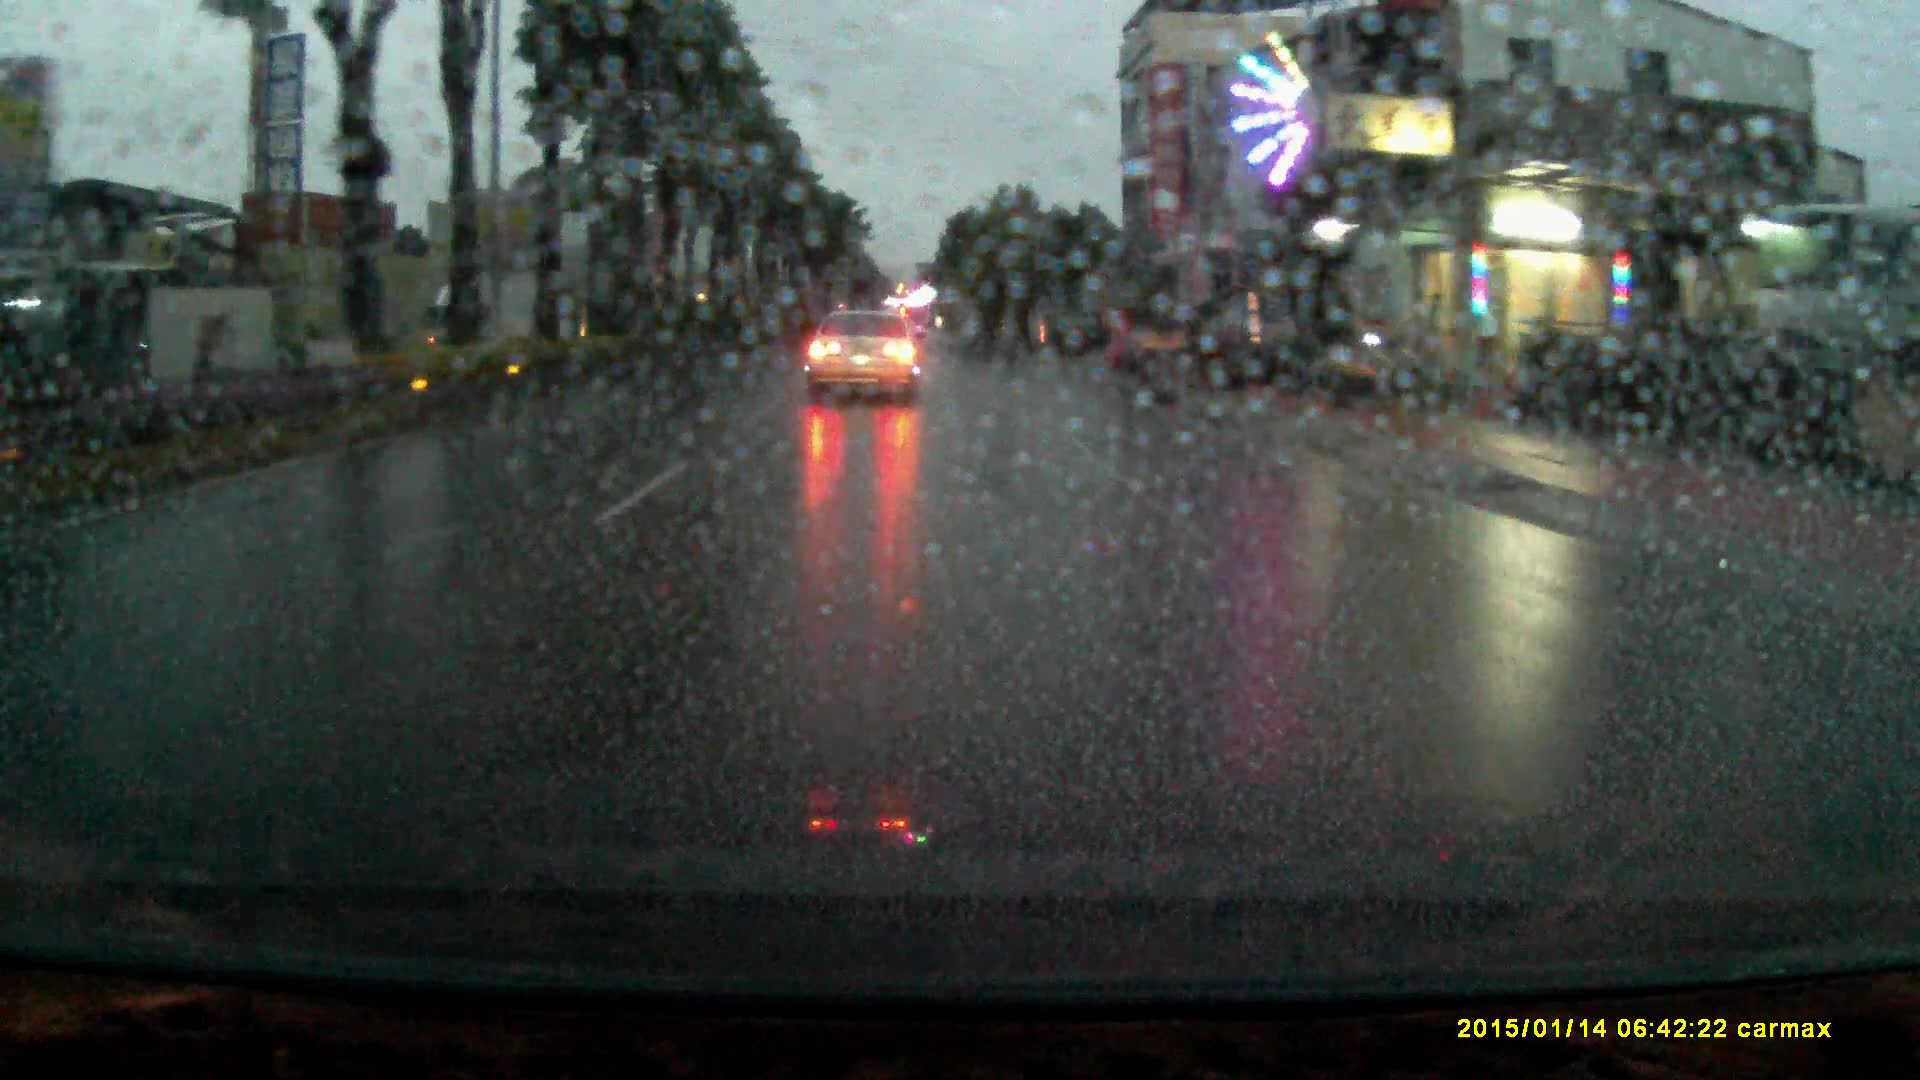vehicle: (806, 307, 918, 411), (429, 262, 542, 349), (1044, 313, 1112, 364)
